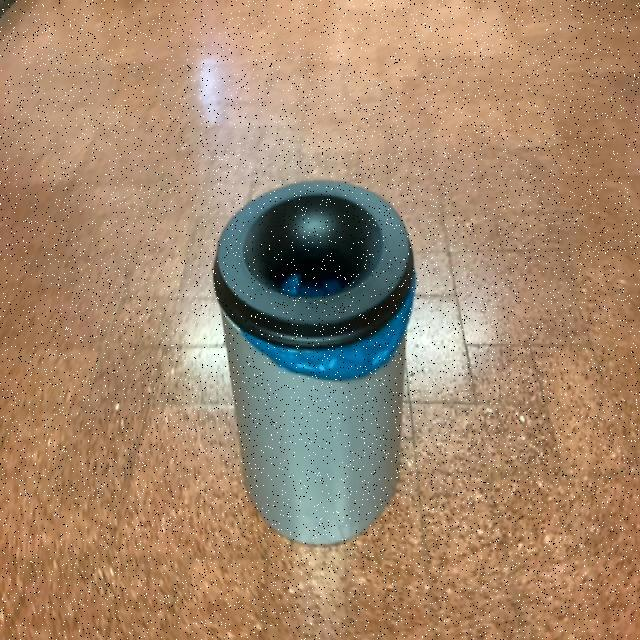garbage container: (179, 148, 455, 560)
